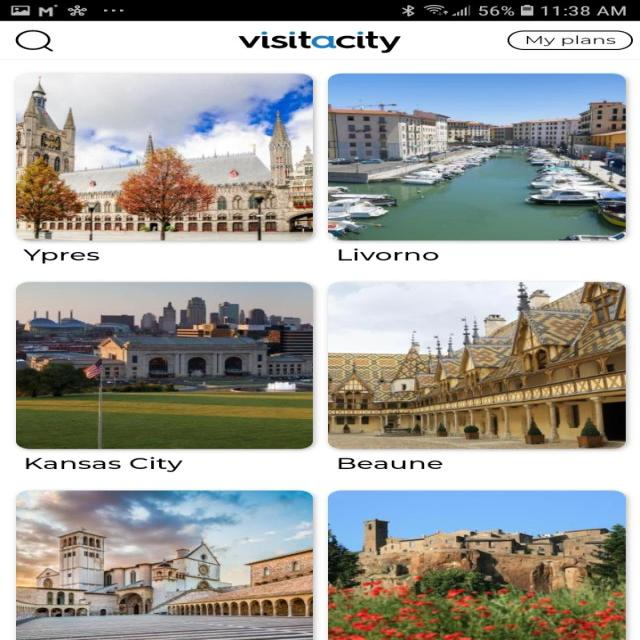Icon: (15, 30, 54, 52)
Image: (15, 72, 313, 241), (326, 73, 625, 240), (327, 282, 625, 449), (15, 282, 313, 448), (326, 490, 625, 639), (15, 490, 313, 639), (237, 31, 401, 53)
Text: (25, 457, 183, 472), (22, 248, 100, 264), (338, 248, 438, 260), (338, 458, 442, 468)
TextButton: (506, 30, 633, 50)
